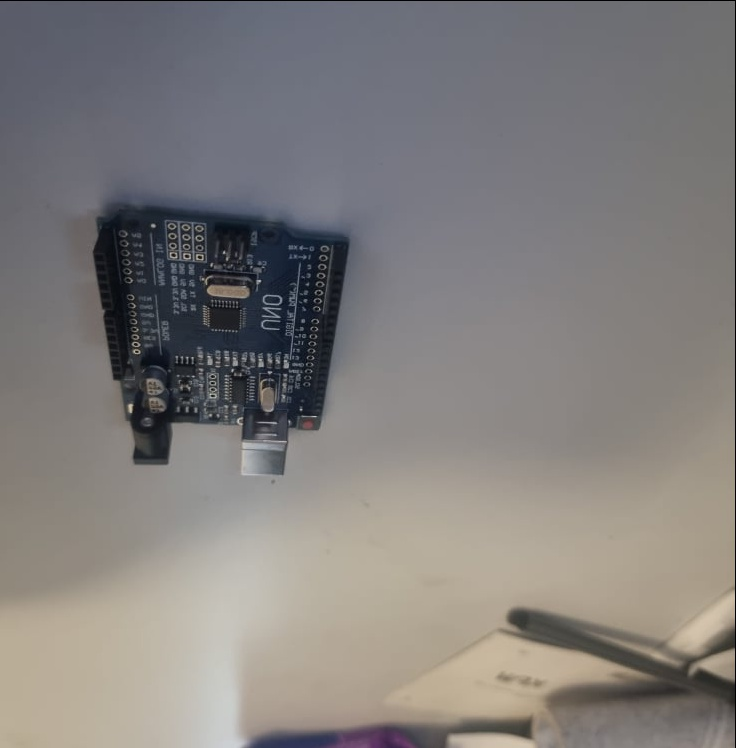UNO R3: (94, 208, 354, 479)
